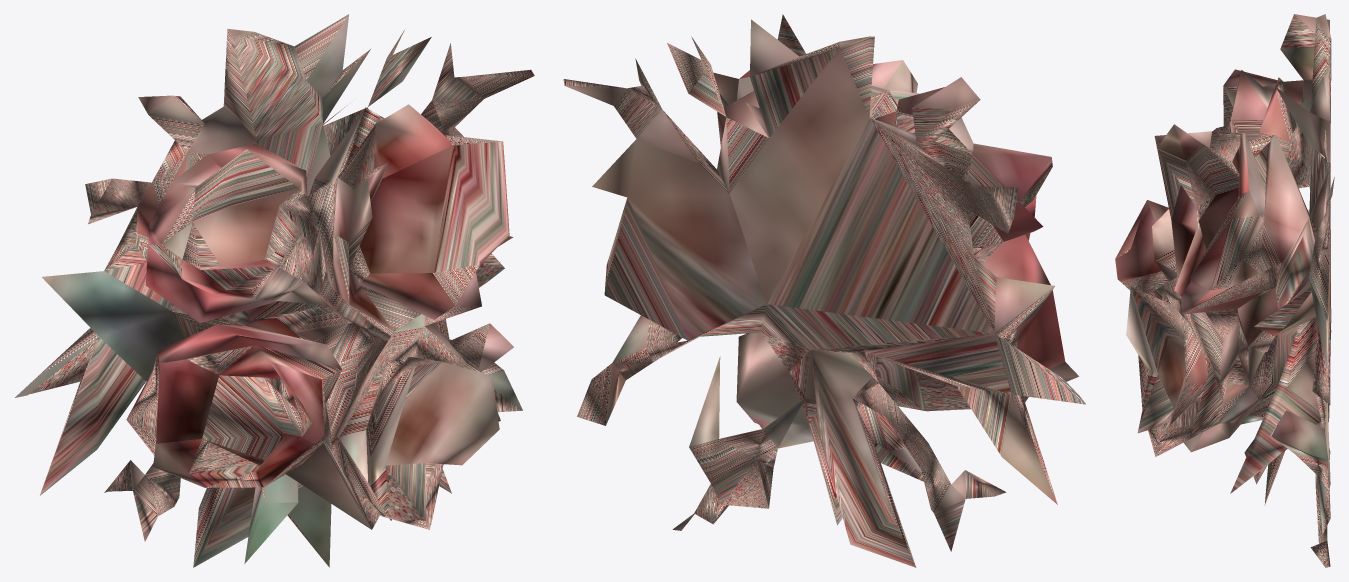
3 views of the same model, side by side, from view 1: azimuth 30°, elevation 25°; view 2: azimuth 150°, elevation 25°; view 3: azimuth 270°, elevation 25° (orthographic). The views are drawn at different scales.
Visible parts, largest first — view 1: Rose-Bouquet-10-02; view 2: Rose-Bouquet-10-02; view 3: Rose-Bouquet-10-02.
Boxes of the visible parts, x1,y1,x2,y2 form: Rose-Bouquet-10-02: [15, 14, 534, 567]; Rose-Bouquet-10-02: [563, 14, 1085, 567]; Rose-Bouquet-10-02: [1115, 14, 1334, 567].
Size of the model in its own units: 0.3057 by 0.3031 by 0.128.
1 material, 1 textured.
